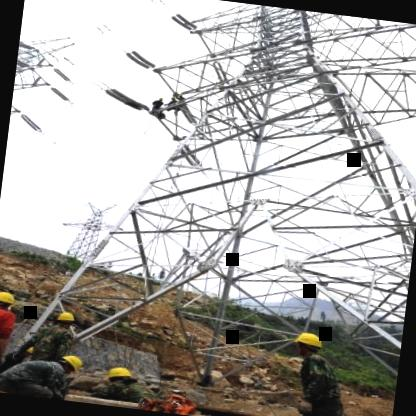helmet: (290, 326, 327, 360), (102, 362, 139, 390), (51, 352, 84, 377), (50, 309, 80, 332), (0, 287, 16, 314)
